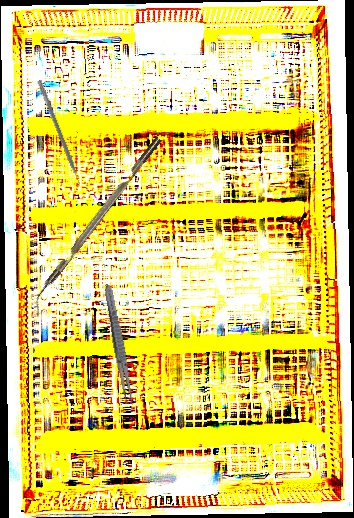Chopper: (25, 136, 170, 315)
Dressing Forceps: (101, 282, 137, 407)
Spatula Surgical: (32, 79, 85, 190)
